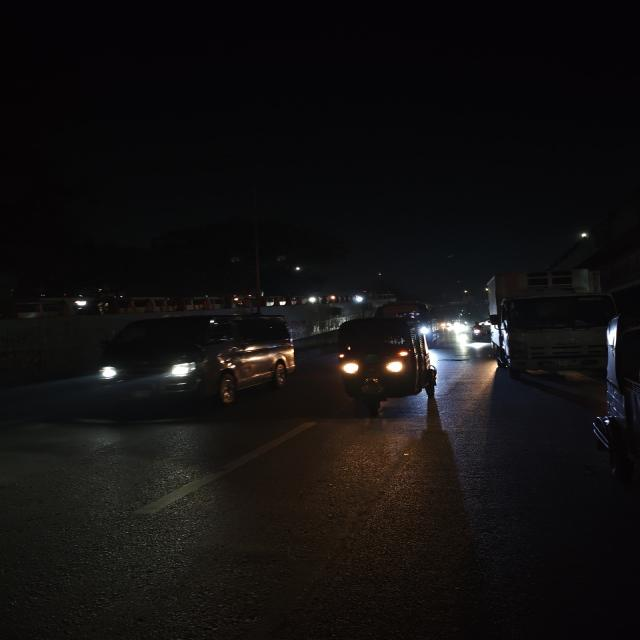car: (87, 311, 301, 417)
truck: (482, 266, 622, 380), (329, 314, 442, 416)
